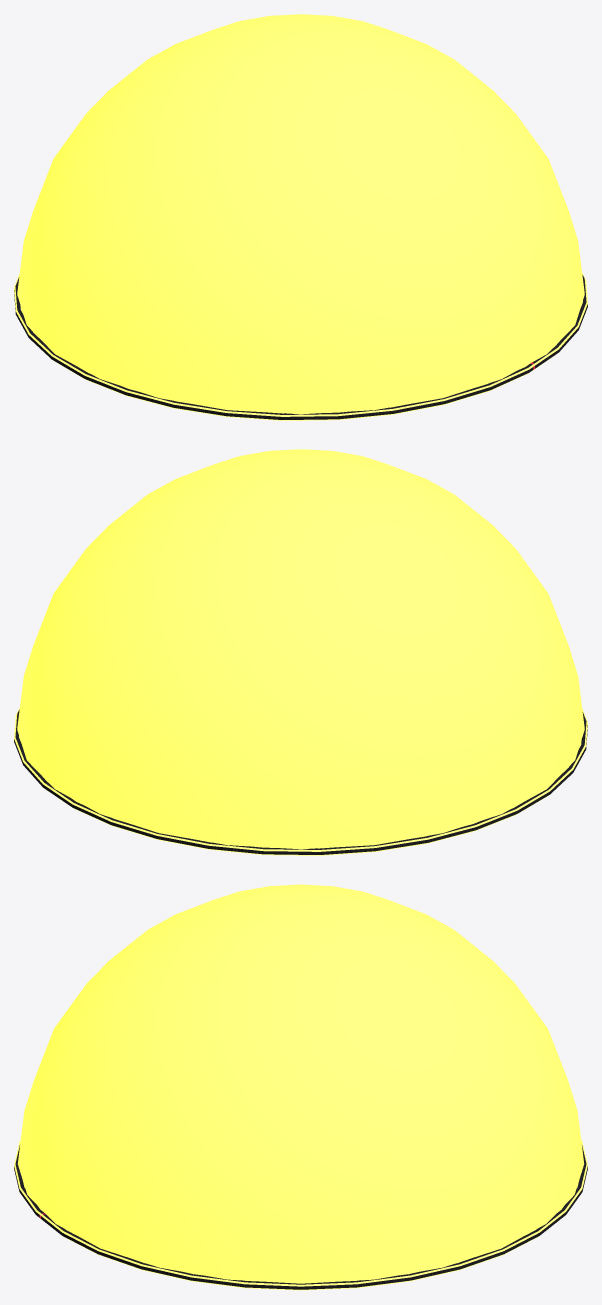
File: generador_escudo_t4.fbx
The picture shows the model from 3 angles, top to bottom: view 1: azimuth 30°, elevation 25°; view 2: azimuth 150°, elevation 25°; view 3: azimuth 270°, elevation 25°; orthographic projection.
Parts seen in each view (by area): view 1: generador_escudo_t4_domo, generador_escudo_t4, generador_escudo_t4_neon; view 2: generador_escudo_t4_domo, generador_escudo_t4, generador_escudo_t4_neon; view 3: generador_escudo_t4_domo, generador_escudo_t4, generador_escudo_t4_neon.
Part boxes in pixels (<box>): generador_escudo_t4_domo: <box>17,14,584,414</box>; generador_escudo_t4: <box>14,275,587,419</box>; generador_escudo_t4_neon: <box>14,273,587,420</box>; generador_escudo_t4_domo: <box>17,449,584,849</box>; generador_escudo_t4: <box>14,710,587,854</box>; generador_escudo_t4_neon: <box>14,708,587,855</box>; generador_escudo_t4_domo: <box>17,884,584,1283</box>; generador_escudo_t4: <box>14,1145,587,1289</box>; generador_escudo_t4_neon: <box>14,1140,587,1290</box>.
Bounding box in the file's own units: 8.09 × 4.35 × 8.09.
